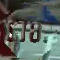Stop: (0, 0, 55, 57)
